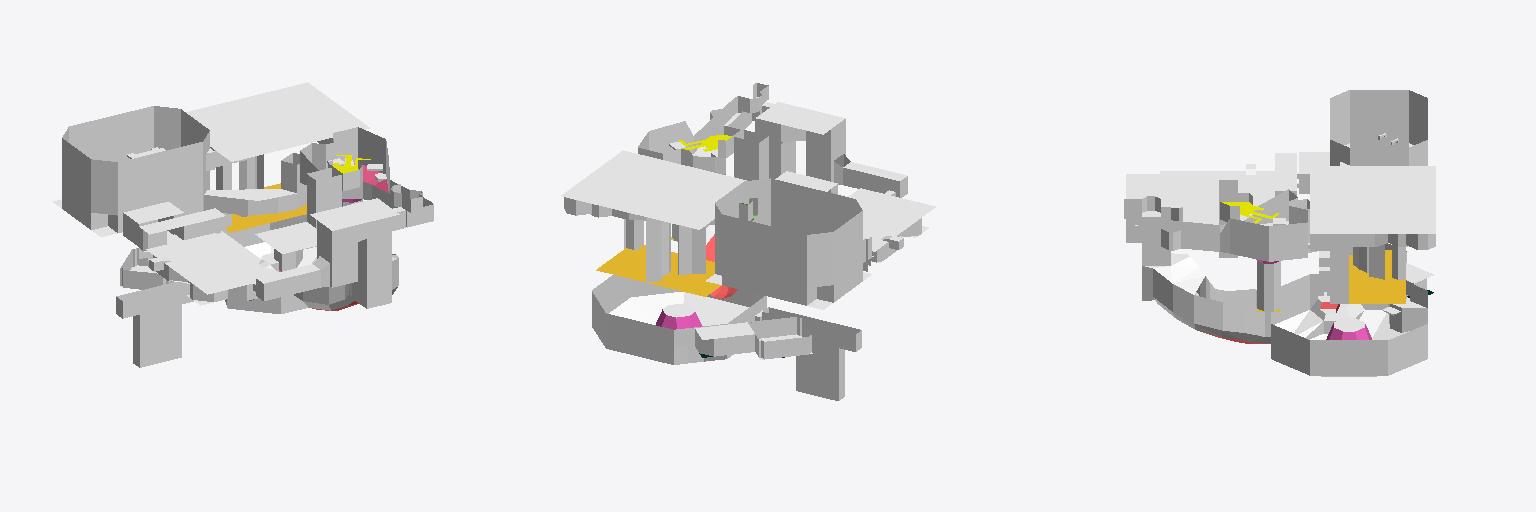
File: Hazy Maze Cave Area 1.obj
3 renders of one model, left to right at view 1: azimuth 30°, elevation 25°; view 2: azimuth 150°, elevation 25°; view 3: azimuth 270°, elevation 25°, orthographic.
Bounding box in the file's own units: 31334 × 23714 × 32510.